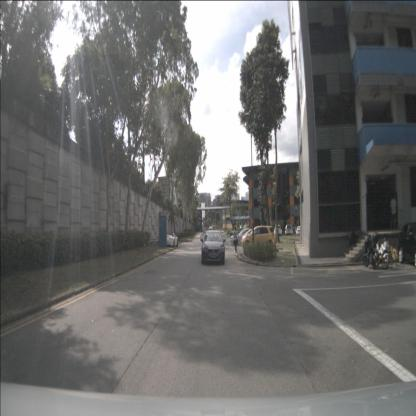human-pedestrian-adult: (390, 192, 397, 232), (232, 226, 240, 253)
vehicle-car: (241, 226, 276, 251), (201, 230, 225, 265), (397, 222, 416, 266), (230, 228, 257, 246), (165, 232, 178, 247), (274, 224, 282, 236), (285, 225, 293, 234), (208, 226, 214, 236), (296, 226, 300, 235)
vehicle-motorcycle: (363, 235, 380, 270), (373, 236, 390, 270)
